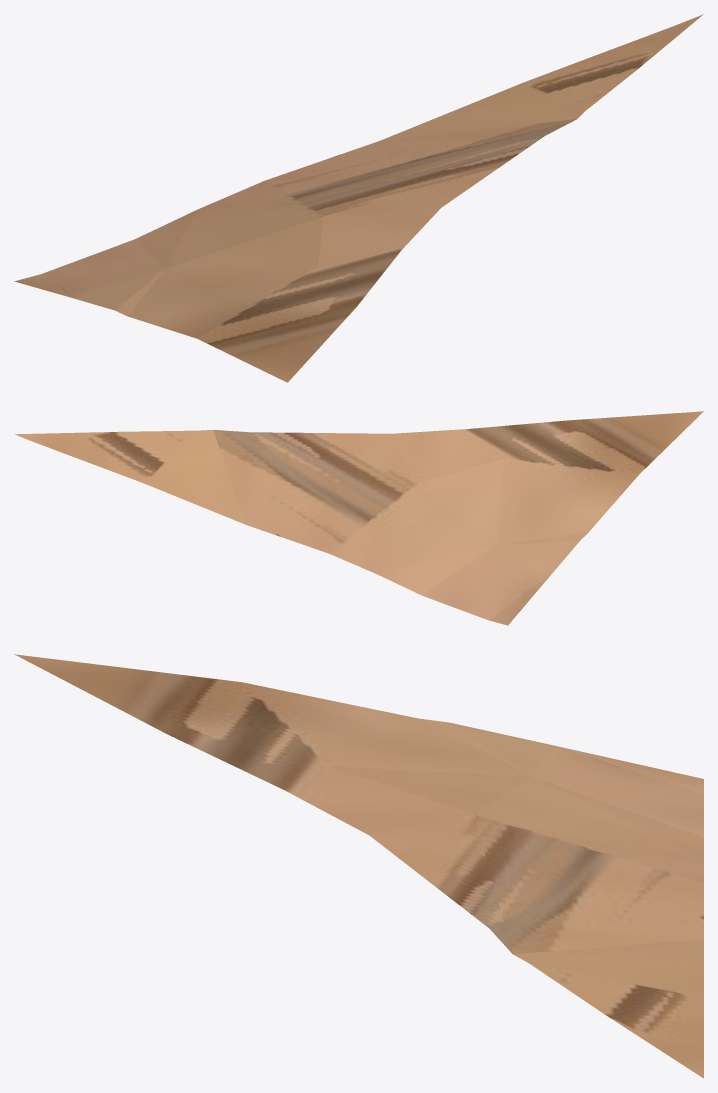
3 views of the same model, one above another, from view 1: azimuth 30°, elevation 25°; view 2: azimuth 150°, elevation 25°; view 3: azimuth 270°, elevation 25° (orthographic). The views are drawn at different scales.
Size of the model in its own units: 0.4271 by 0.0585 by 0.2934.
1 material, 1 textured.
